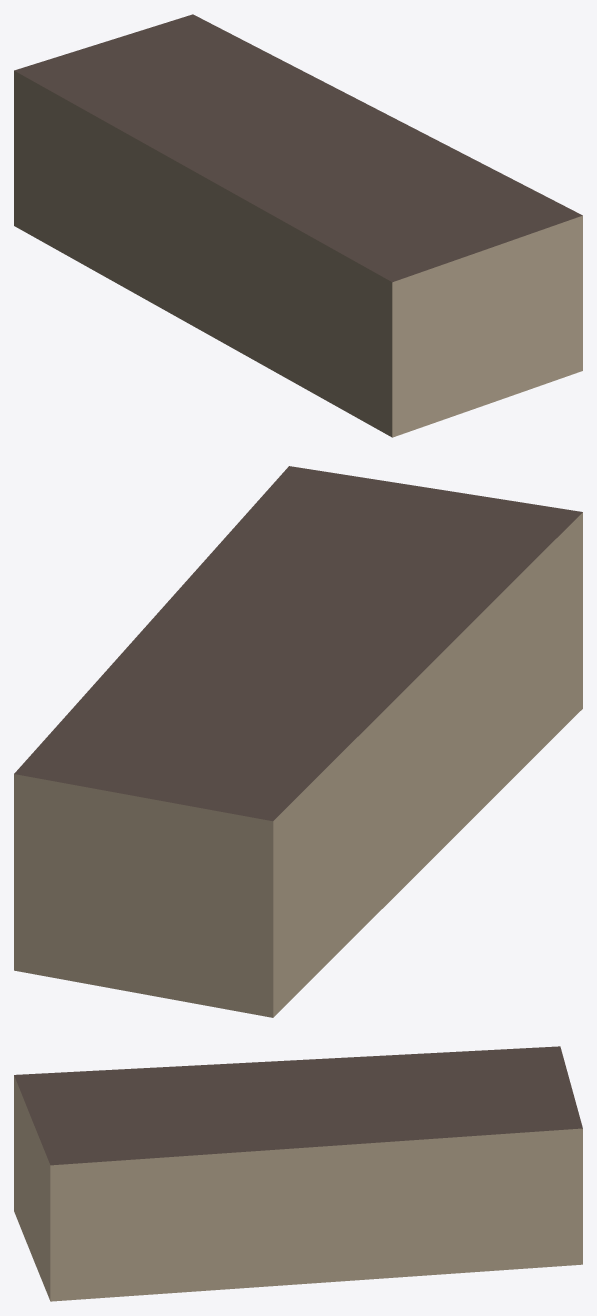
3 renders of one model, top to bottom at view 1: azimuth 30°, elevation 25°; view 2: azimuth 150°, elevation 25°; view 3: azimuth 270°, elevation 25°, orthographic. The views are drawn at different scales.
Parts seen in each view (by area): view 1: HP-w900603072; view 2: HP-w900603072; view 3: HP-w900603072.
Boxes of the visible parts, x1,y1,x2,y2 form: HP-w900603072: (14, 14, 582, 437); HP-w900603072: (14, 466, 582, 1017); HP-w900603072: (14, 1046, 582, 1301).
Size of the model in its own units: 16.87 by 9 by 34.07.
